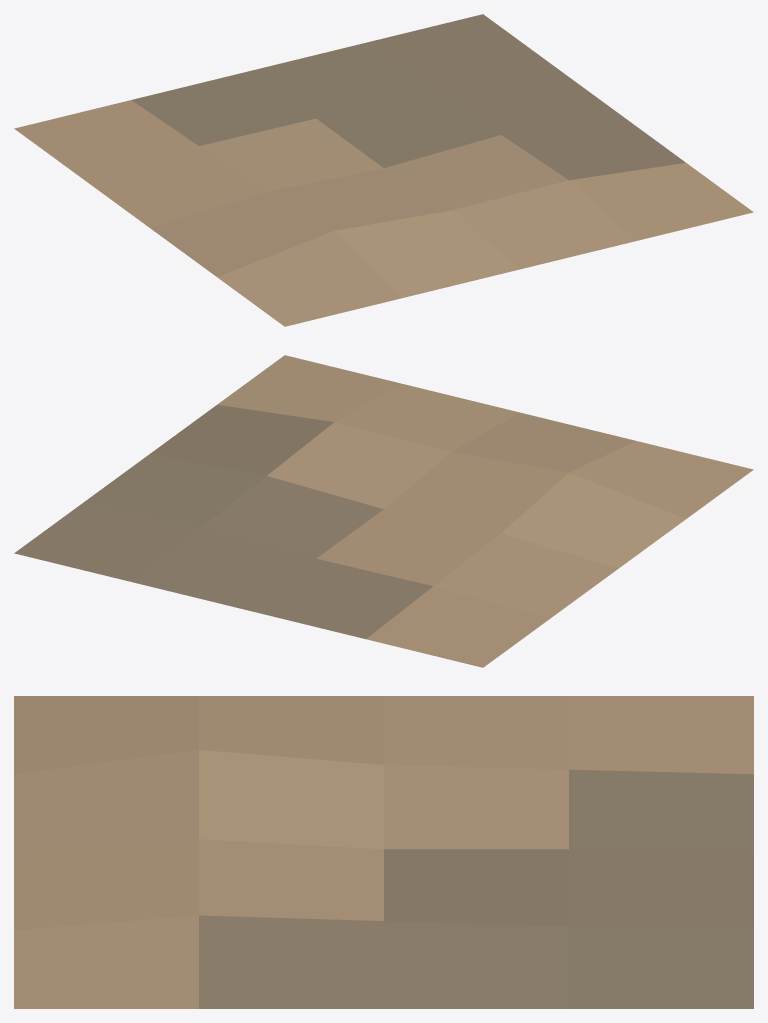
Rendered from Tile_37_Trans_Dirt_Mud.glb.
The picture shows the model from 3 angles, top to bottom: view 1: azimuth 30°, elevation 25°; view 2: azimuth 150°, elevation 25°; view 3: azimuth 270°, elevation 25°; orthographic projection. The views are drawn at different scales.
Visible parts, largest first — view 1: Tile_Trans_Dirt_Mud; view 2: Tile_Trans_Dirt_Mud; view 3: Tile_Trans_Dirt_Mud.
Boxes of the visible parts, left/top/right/bottom form: Tile_Trans_Dirt_Mud: left=14, top=14, right=753, bottom=326; Tile_Trans_Dirt_Mud: left=14, top=355, right=753, bottom=667; Tile_Trans_Dirt_Mud: left=14, top=696, right=753, bottom=1008.
Bounding box in the file's own units: 0.2 × 0.0073 × 0.2.
